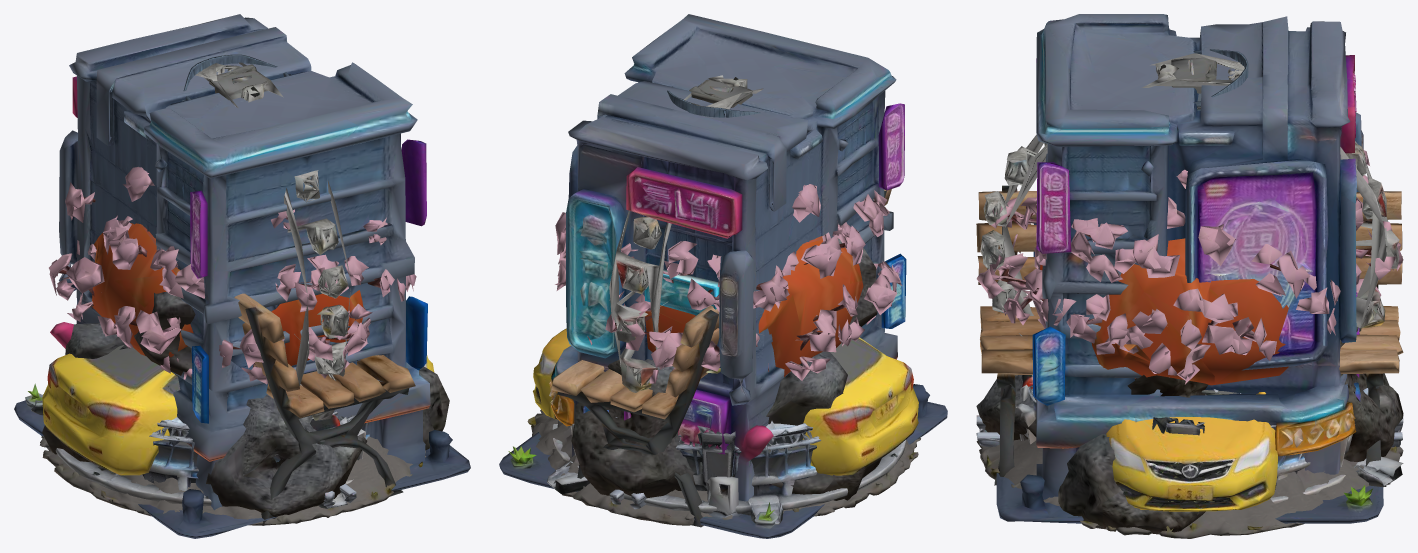
File: film.glb
3 renders of one model, left to right at view 1: azimuth 30°, elevation 25°; view 2: azimuth 150°, elevation 25°; view 3: azimuth 270°, elevation 25°, orthographic. The views are drawn at different scales.
Parts seen in each view (by area): view 1: cqbuild_b, lavarock, taxi, sakura, bench, lantern, ferris, volcano, stadium, sakura_lo, cqbuild_a, tower (+1 smaller); view 2: cqbuild_b, lavarock, taxi, sakura, stadium, bench, lantern, ferris, volcano, sakura_lo, cqbuild_a, tower; view 3: cqbuild_b, sakura, taxi, lantern, bench, lavarock, ferris, volcano, sakura_lo, stadium, cqbuild_a, monorail (+1 smaller).
Part boxes in pixels (<box>): cqbuild_b: <box>14,14,470,538</box>; lavarock: <box>42,292,449,516</box>; taxi: <box>42,344,434,475</box>; sakura: <box>49,166,416,383</box>; bench: <box>234,293,415,525</box>; lantern: <box>92,75,365,365</box>; ferris: <box>195,62,350,420</box>; volcano: <box>40,436,426,525</box>; stadium: <box>31,394,369,508</box>; sakura_lo: <box>49,184,413,384</box>; cqbuild_a: <box>209,64,269,100</box>; tower: <box>182,54,290,101</box>; cqbuild_b: <box>499,14,947,538</box>; lavarock: <box>571,238,881,500</box>; taxi: <box>533,328,918,475</box>; sakura: <box>555,184,902,383</box>; stadium: <box>547,417,906,524</box>; bench: <box>551,189,891,527</box>; lantern: <box>645,86,863,376</box>; ferris: <box>609,75,763,392</box>; volcano: <box>527,409,920,525</box>; sakura_lo: <box>555,185,899,379</box>; cqbuild_a: <box>689,79,752,107</box>; tower: <box>667,86,770,117</box>; cqbuild_b: <box>996,14,1383,523</box>; sakura: <box>976,150,1403,380</box>; taxi: <box>1106,390,1277,511</box>; lantern: <box>1040,60,1289,385</box>; bench: <box>976,185,1403,486</box>; lavarock: <box>976,327,1403,534</box>; ferris: <box>980,53,1399,336</box>; volcano: <box>976,439,1403,538</box>; sakura_lo: <box>987,149,1402,384</box>; stadium: <box>979,379,1403,503</box>; cqbuild_a: <box>1171,57,1216,93</box>; monorail: <box>976,375,1403,446</box>.
Bounding box in the file's own units: 1 × 1.01 × 1.
13 materials, 13 textured.
